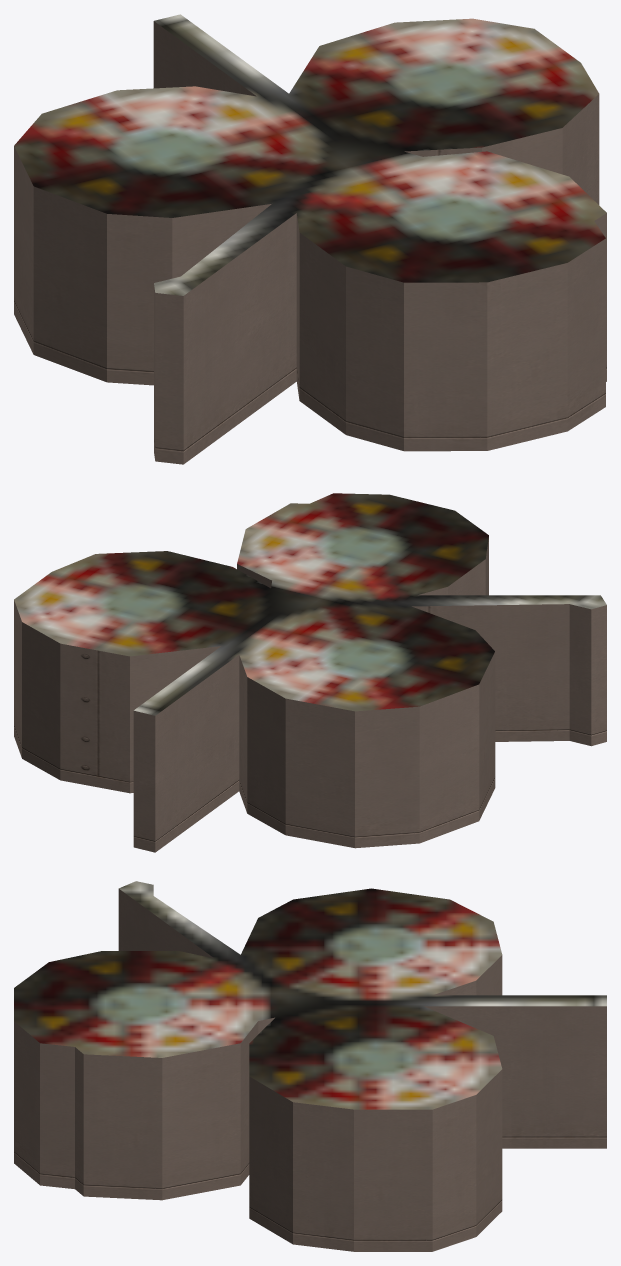
Rendered from fuel_tank_hard_17.glb.
3 renders of one model, top to bottom at view 1: azimuth 30°, elevation 25°; view 2: azimuth 150°, elevation 25°; view 3: azimuth 270°, elevation 25°, orthographic. The views are drawn at different scales.
Parts seen in each view (by area): view 1: buildings/saxarba/fuel_tanks/fuel_tank_hard_17; view 2: buildings/saxarba/fuel_tanks/fuel_tank_hard_17; view 3: buildings/saxarba/fuel_tanks/fuel_tank_hard_17.
Boxes of the visible parts, <box> form: buildings/saxarba/fuel_tanks/fuel_tank_hard_17: <box>14,14,606,464</box>; buildings/saxarba/fuel_tanks/fuel_tank_hard_17: <box>14,493,606,852</box>; buildings/saxarba/fuel_tanks/fuel_tank_hard_17: <box>14,881,606,1251</box>.
Bounding box in the file's own units: 62 × 18 × 68.
